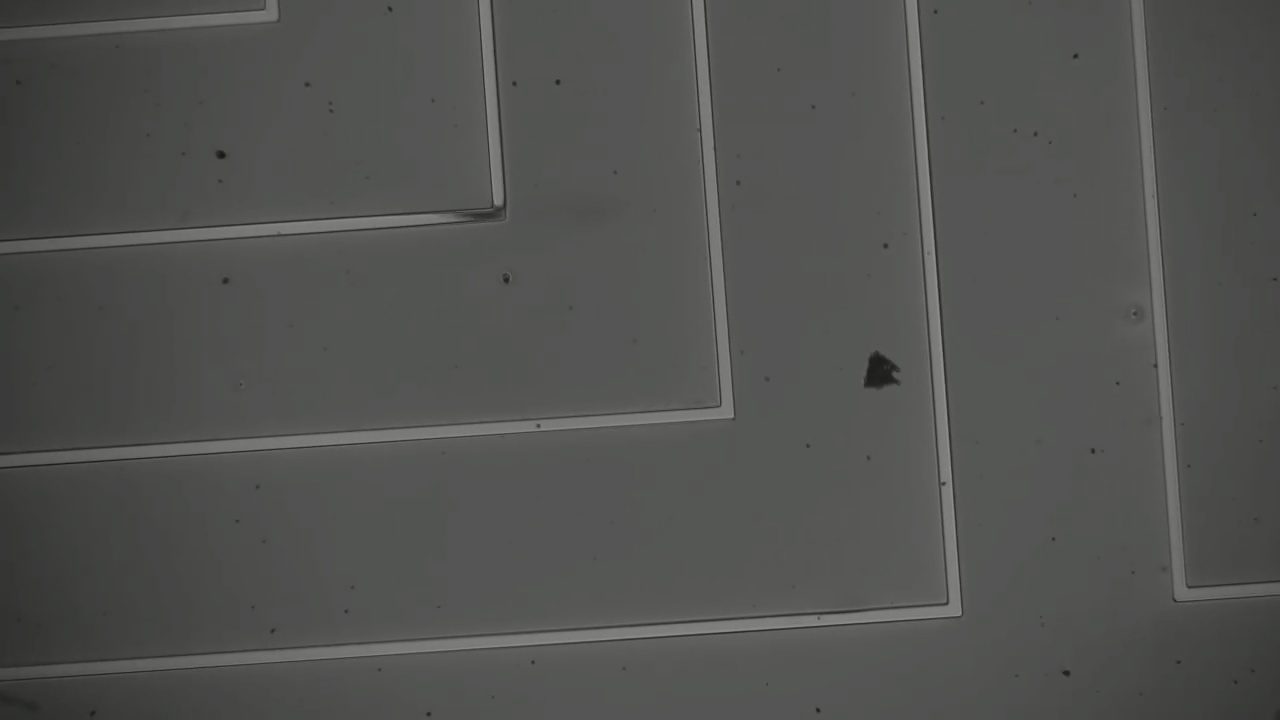gray_line: (431, 192, 521, 239)
